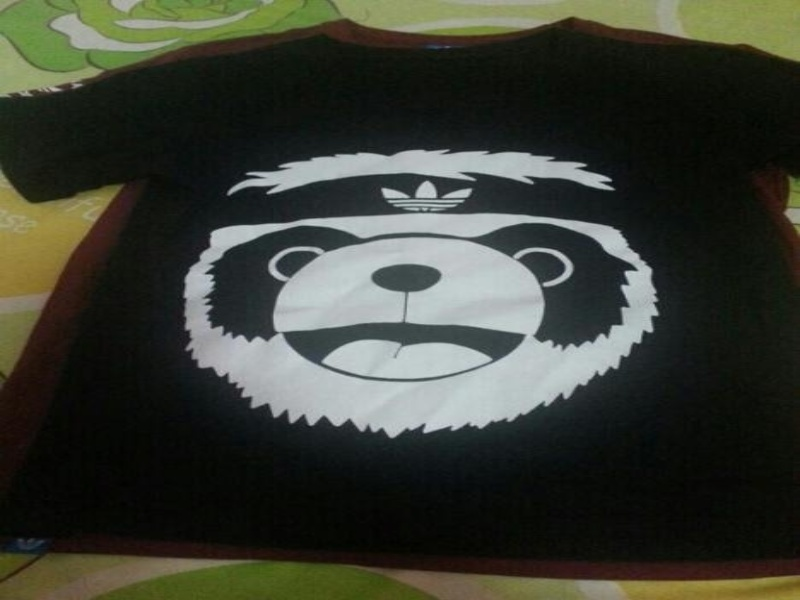short_sleeved_shirt: (0, 28, 797, 562)
